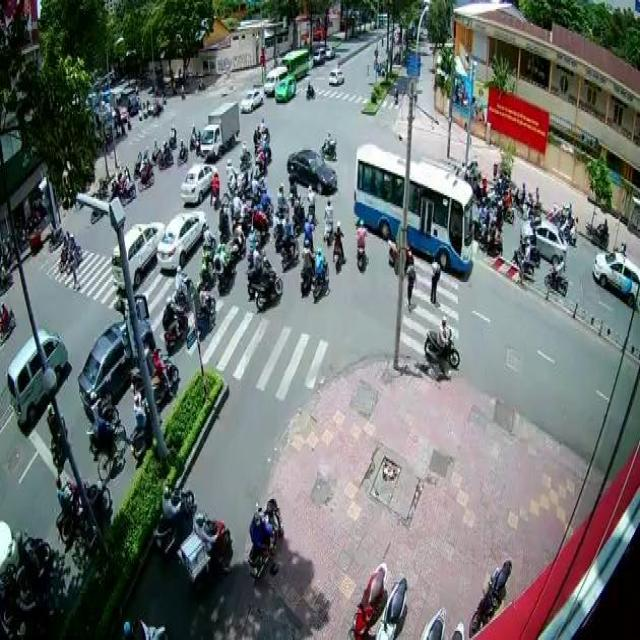bicycle: (95, 412, 126, 483)
bus: (352, 140, 472, 270)
car: (76, 320, 156, 421), (108, 222, 162, 288), (156, 208, 207, 269), (591, 250, 640, 308), (284, 144, 338, 193), (520, 217, 566, 266), (179, 162, 218, 202), (238, 87, 263, 112)
motorcycle: (422, 313, 459, 372), (151, 343, 180, 407), (160, 293, 189, 352), (254, 257, 282, 311), (213, 239, 235, 291), (310, 244, 330, 300), (332, 217, 348, 275), (354, 217, 368, 275)
truck: (4, 327, 68, 423), (199, 98, 239, 157)
